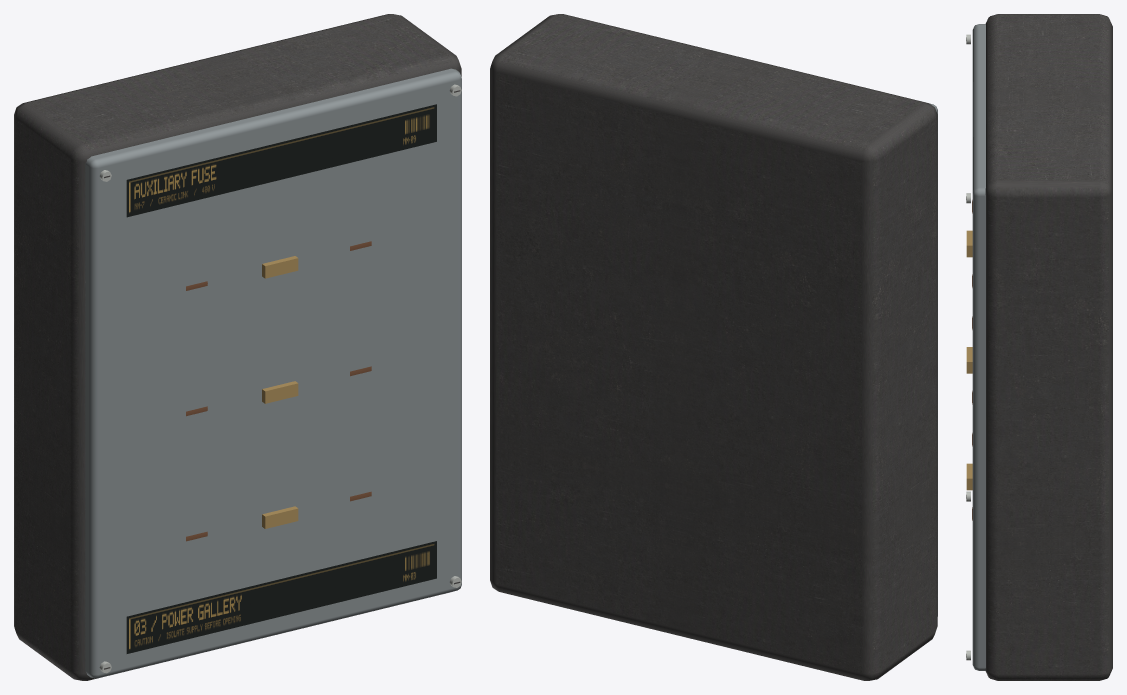
File: fuse-locker.glb
3 views of the same model, side by side, from view 1: azimuth 30°, elevation 25°; view 2: azimuth 150°, elevation 25°; view 3: azimuth 270°, elevation 25° (orthographic). The views are drawn at different scales.
Visible parts, largest first — view 1: wall-housing; view 2: wall-housing; view 3: wall-housing.
Boxes of the visible parts, x1,y1,x2,y2 form: wall-housing: (14, 14, 461, 680); wall-housing: (490, 14, 937, 680); wall-housing: (966, 14, 1112, 680).
Size of the model in its own units: 0.88 by 1.16 by 0.3086.
8 materials, 3 textured.
